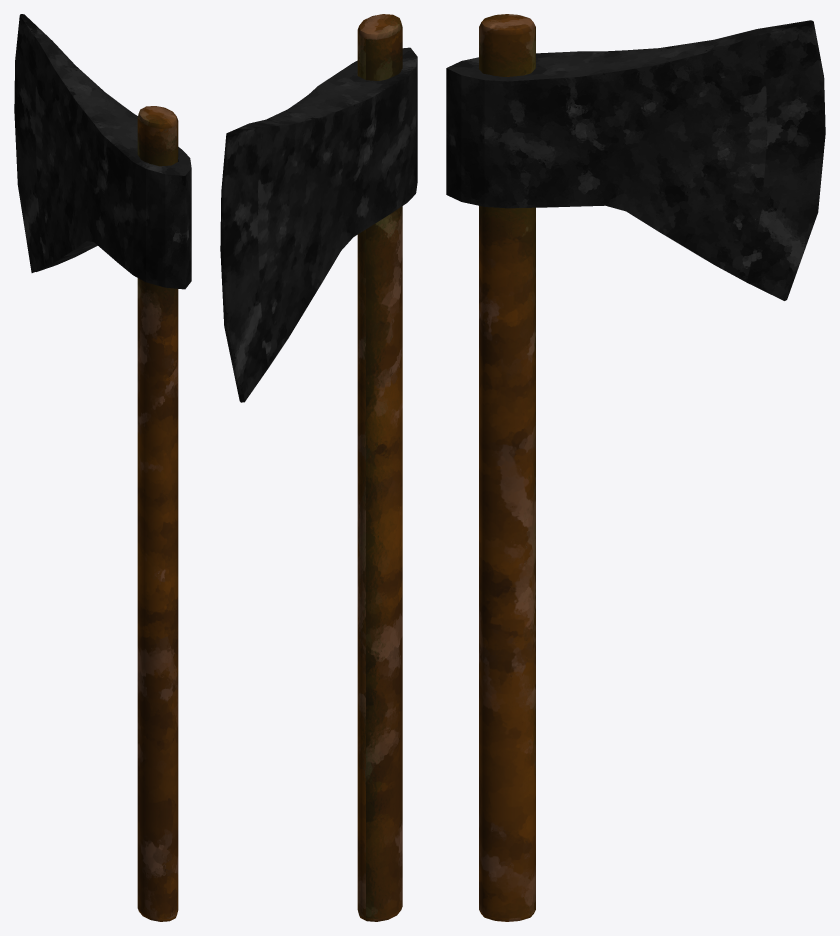
Rendered from Machado.fbx.
The picture shows the model from 3 angles, left to right: view 1: azimuth 30°, elevation 25°; view 2: azimuth 150°, elevation 25°; view 3: azimuth 270°, elevation 25°; orthographic projection. The views are drawn at different scales.
Visible parts, largest first — view 1: Machado_lamina_Mesh, Machado_cabo_MESH; view 2: Machado_lamina_Mesh, Machado_cabo_MESH; view 3: Machado_lamina_Mesh, Machado_cabo_MESH.
Part boxes in pixels (x1,y1,x2,y2): Machado_lamina_Mesh: (14, 14, 191, 289); Machado_cabo_MESH: (137, 106, 178, 921); Machado_lamina_Mesh: (220, 47, 417, 402); Machado_cabo_MESH: (357, 14, 402, 921); Machado_lamina_Mesh: (446, 20, 825, 300); Machado_cabo_MESH: (479, 14, 535, 921).
Size of the model in its own units: 4.53 by 70.24 by 26.99.
Materials: 2 (2 with a texture image).
